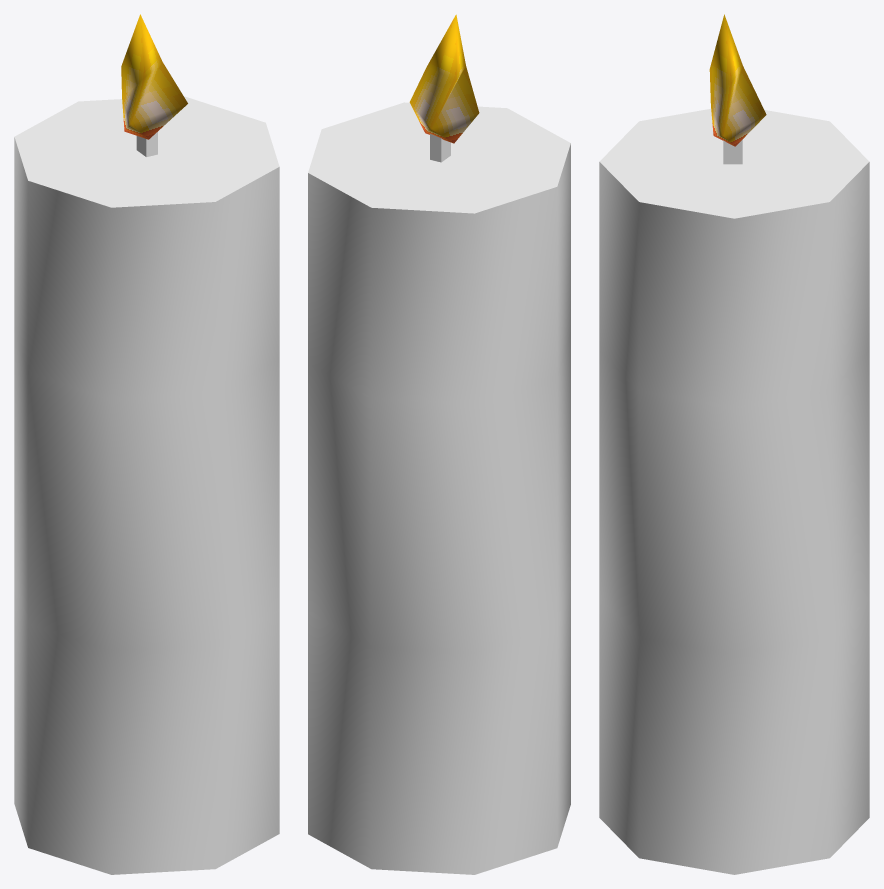
File: INST_BE_CANDLE.fbx
3 renders of one model, left to right at view 1: azimuth 30°, elevation 25°; view 2: azimuth 150°, elevation 25°; view 3: azimuth 270°, elevation 25°, orthographic.
Visible parts, largest first — view 1: INST_BE_CANDLE; view 2: INST_BE_CANDLE; view 3: INST_BE_CANDLE.
Part boxes in pixels (x1,y1,x2,y2): INST_BE_CANDLE: (14,14,279,874); INST_BE_CANDLE: (308,14,570,874); INST_BE_CANDLE: (599,14,869,874).
Size of the model in its own units: 983 by 3205 by 983.
Materials: 2 (2 with a texture image).
